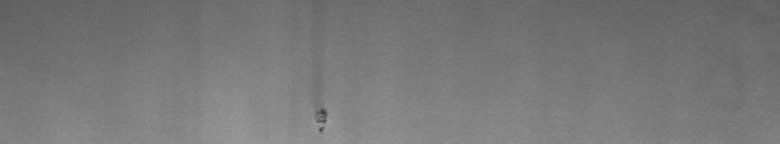fi: (312, 101, 332, 136)
